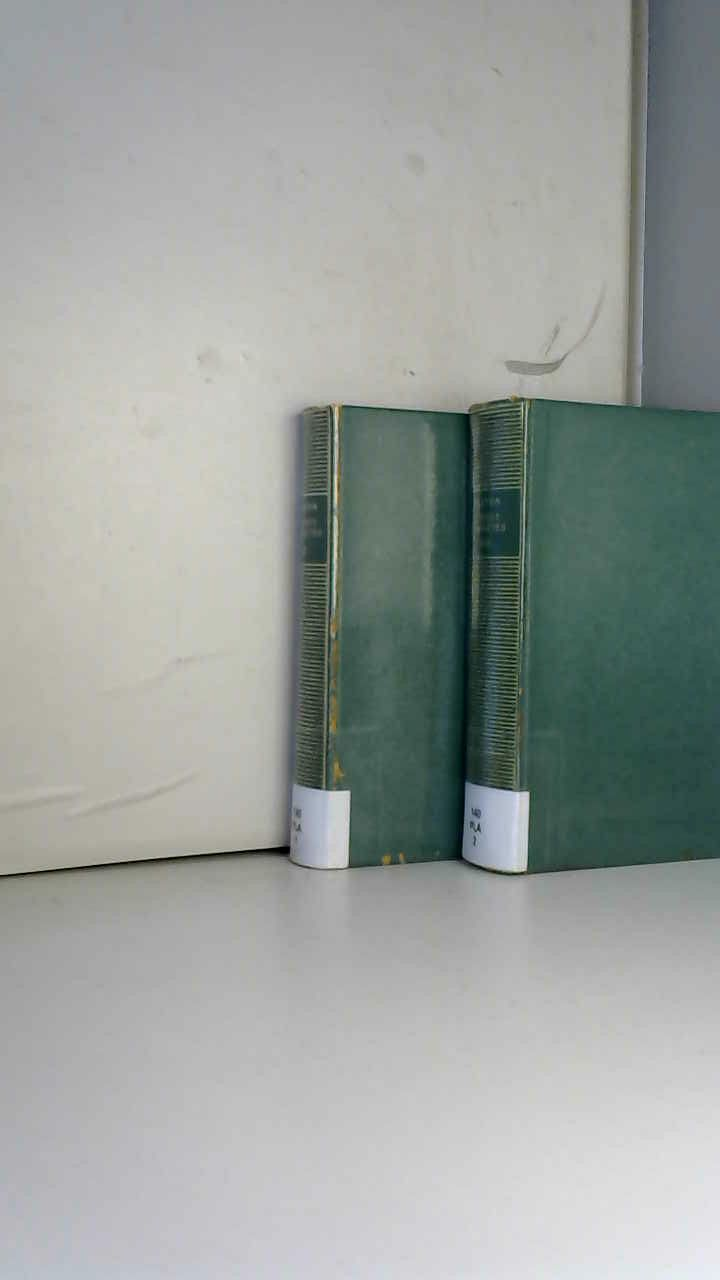book: (277, 372, 720, 897)
